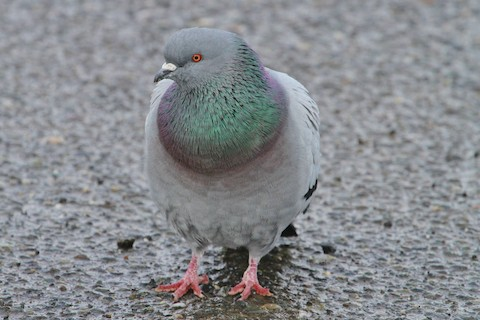pigeon: (137, 22, 324, 303)
